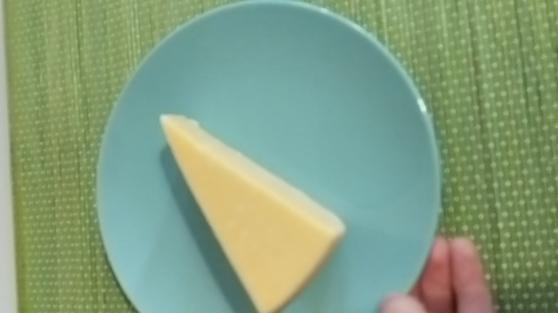cheese: (160, 109, 344, 313)
